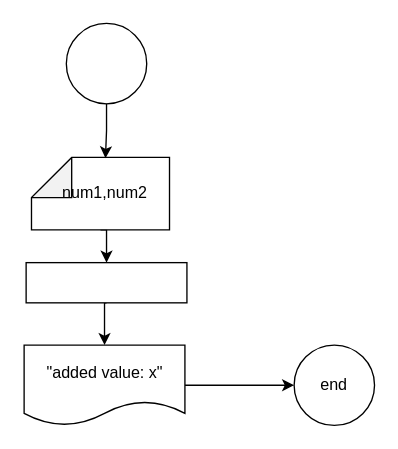
This 398x449 diagram has some shape labels left out. The centre of each missing label's shape, as x and y in pixels:
"start" belongs at [106,63].
"x <-- num1 + num2" belongs at [106,282].
